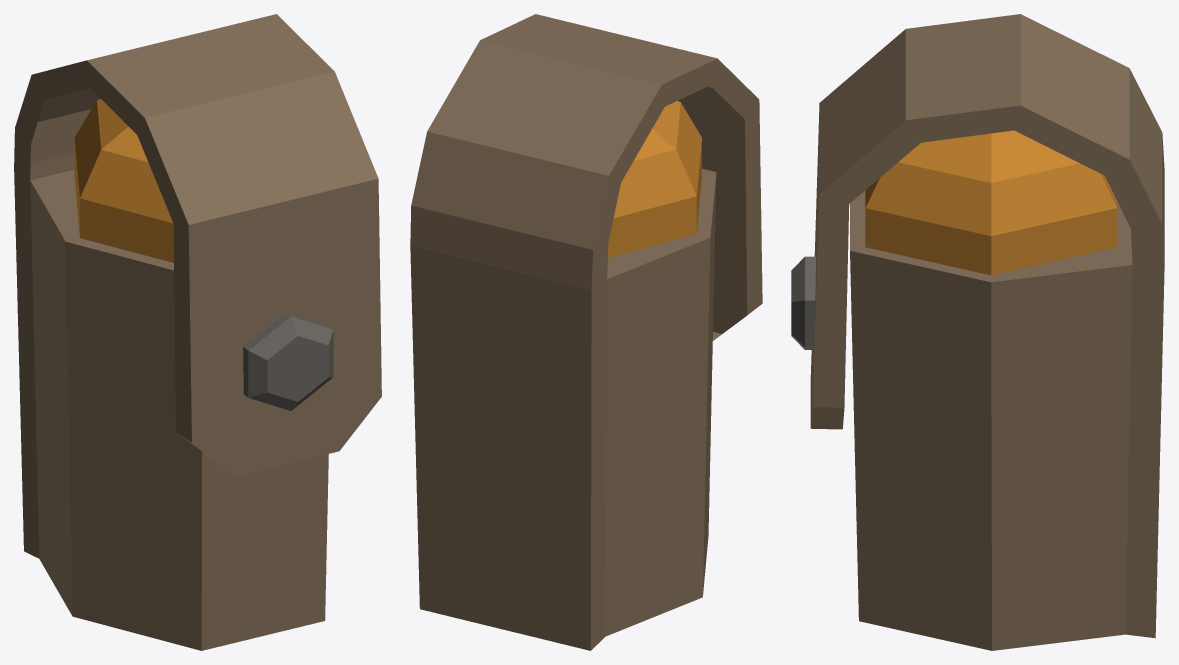
File: Graned_Pouch_01_SM.FBX
3 views of the same model, side by side, from view 1: azimuth 30°, elevation 25°; view 2: azimuth 150°, elevation 25°; view 3: azimuth 270°, elevation 25° (orthographic). The views are drawn at different scales.
Parts seen in each view (by area): view 1: Graned_Pouch_01_SM; view 2: Graned_Pouch_01_SM; view 3: Graned_Pouch_01_SM.
Boxes of the visible parts, box(x1,y1,x2,y2) form: Graned_Pouch_01_SM: box(14, 14, 381, 650); Graned_Pouch_01_SM: box(410, 14, 762, 650); Graned_Pouch_01_SM: box(791, 14, 1164, 650).
Size of what is drawn, in the model's own units: 4.68 by 5.86 by 9.27.
